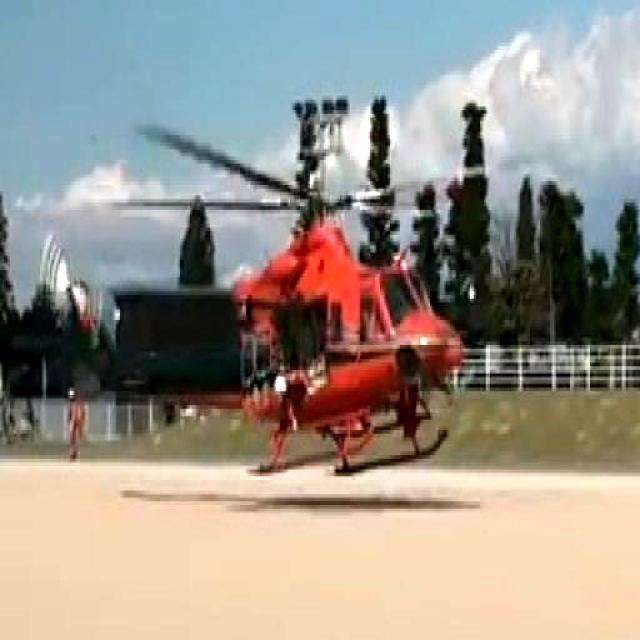drone: (31, 76, 542, 516)
